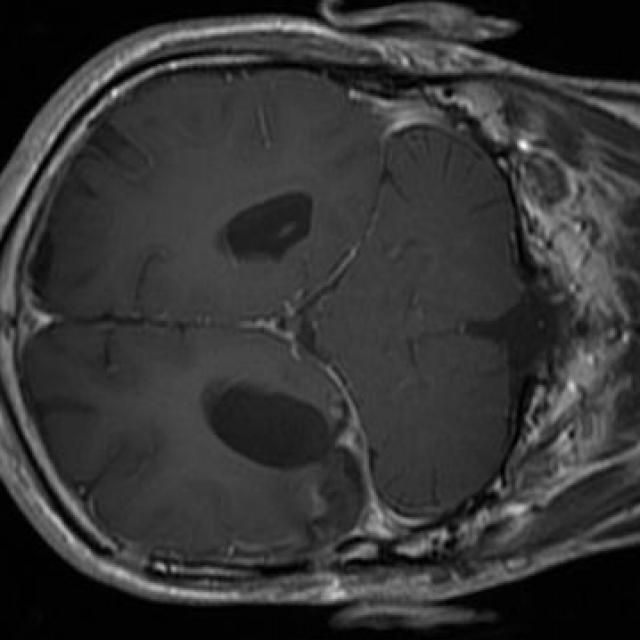glioma: (203, 380, 373, 551)
